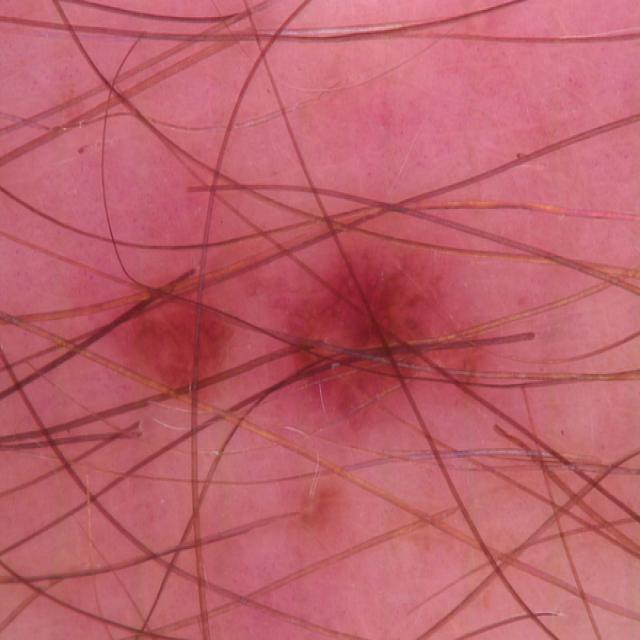NV: (107, 242, 497, 444)
